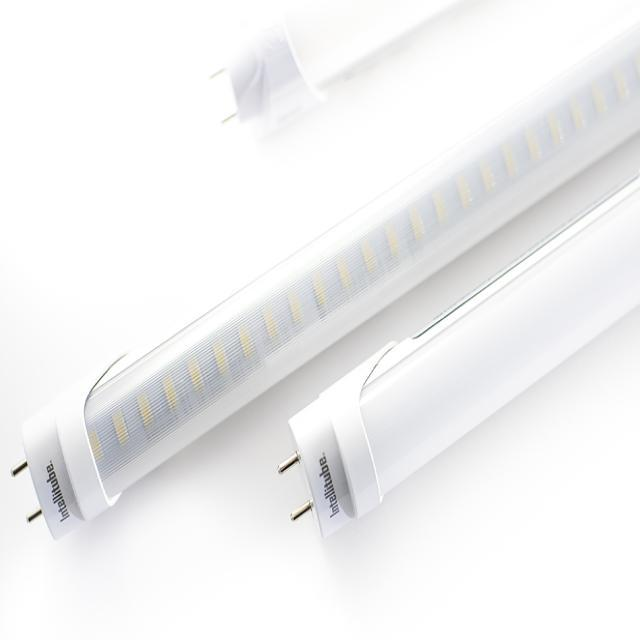tubelight_off: (20, 10, 640, 550), (283, 159, 640, 534), (215, 0, 477, 134)
